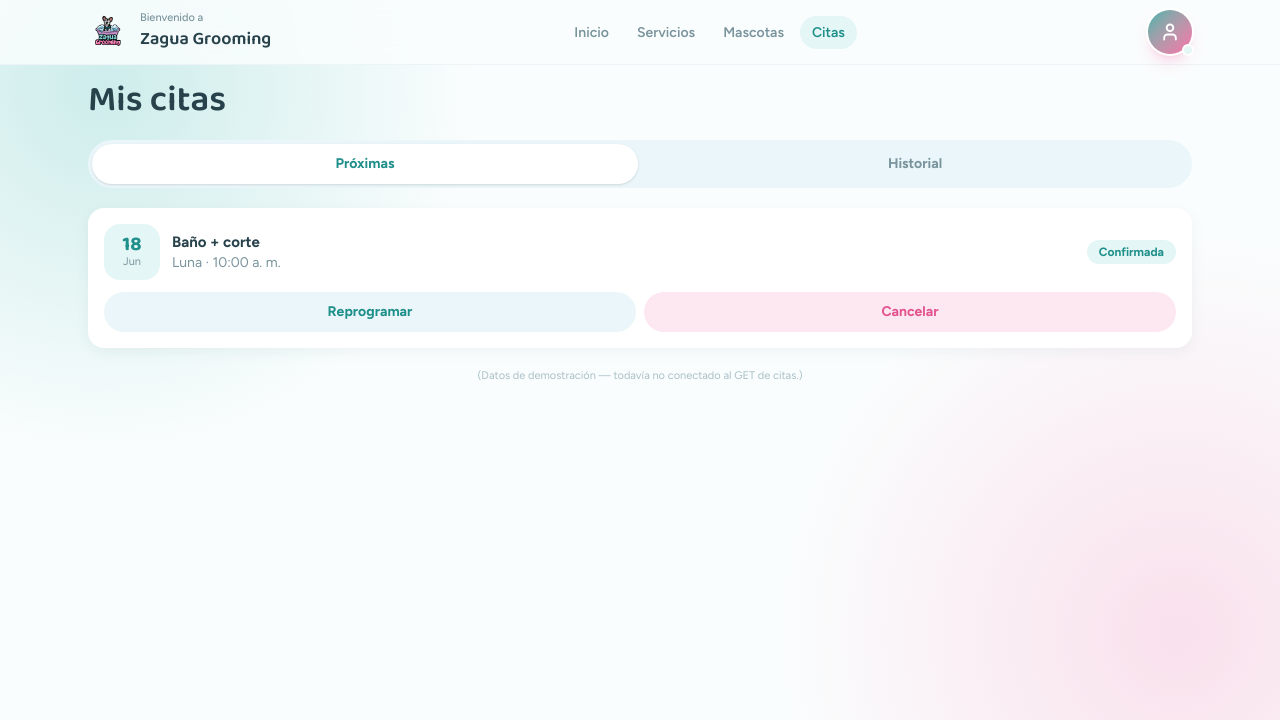
Citas › muestra las próximas citas y permite ver el historial
Expected: the heading "Mis citas" is shown, [88,71,226,129]
Expected: the button "Próximas" is shown, [92,144,638,184]
# Cambiar a "Historial"
Click the button "Historial": {"x": 915, "y": 164} [642,144,1188,184]
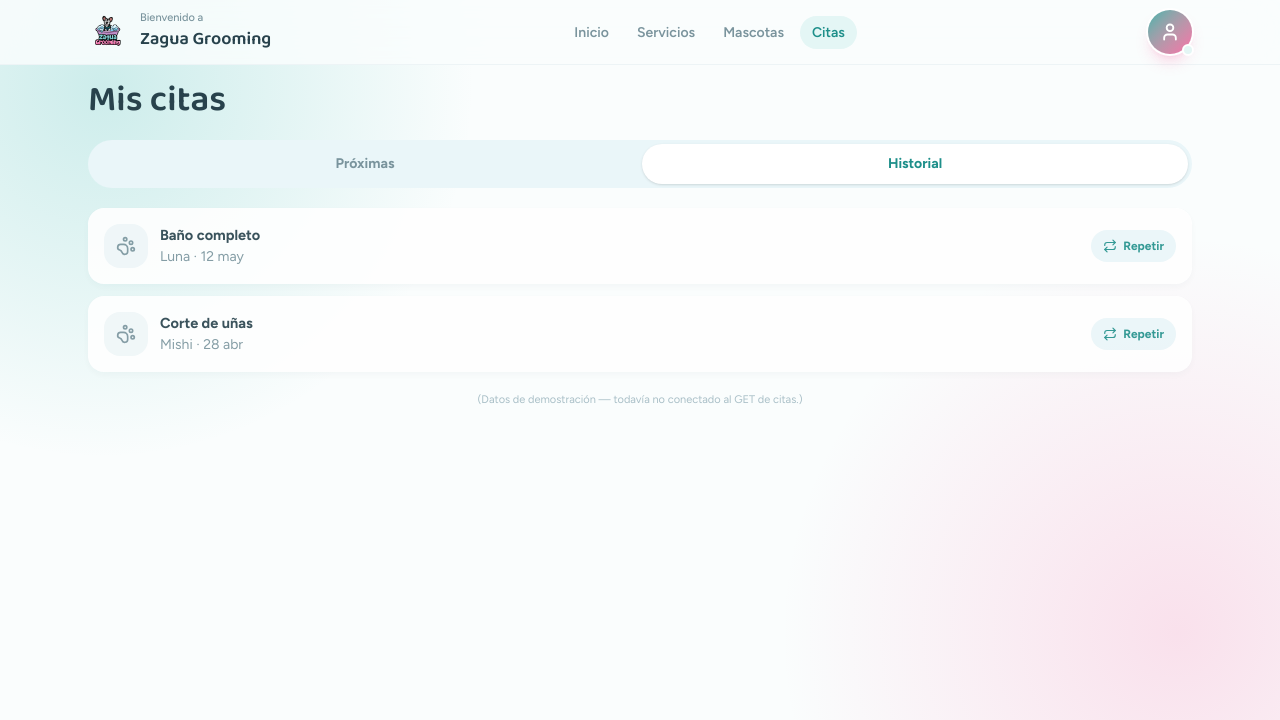
Now the text "Baño completo" is shown, box [160,226,260,244]
Now the text "Corte de uñas" is shown, box [160,314,253,332]
